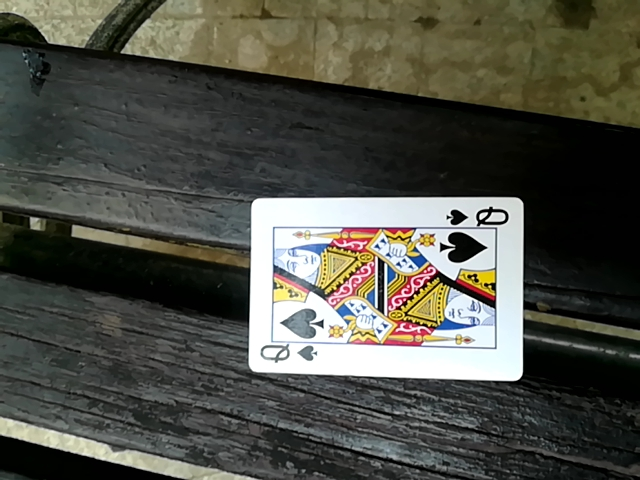ht q: (244, 195, 520, 381)
